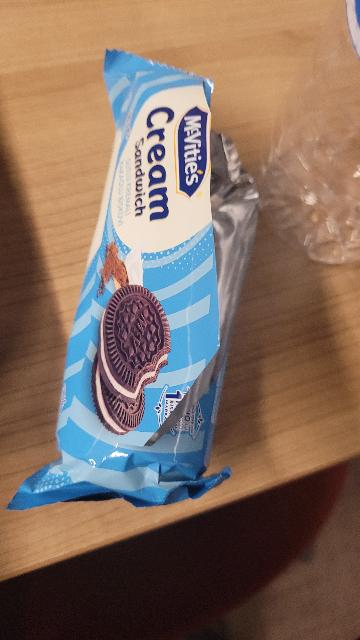Plastik: (9, 46, 260, 509), (263, 3, 360, 265)
